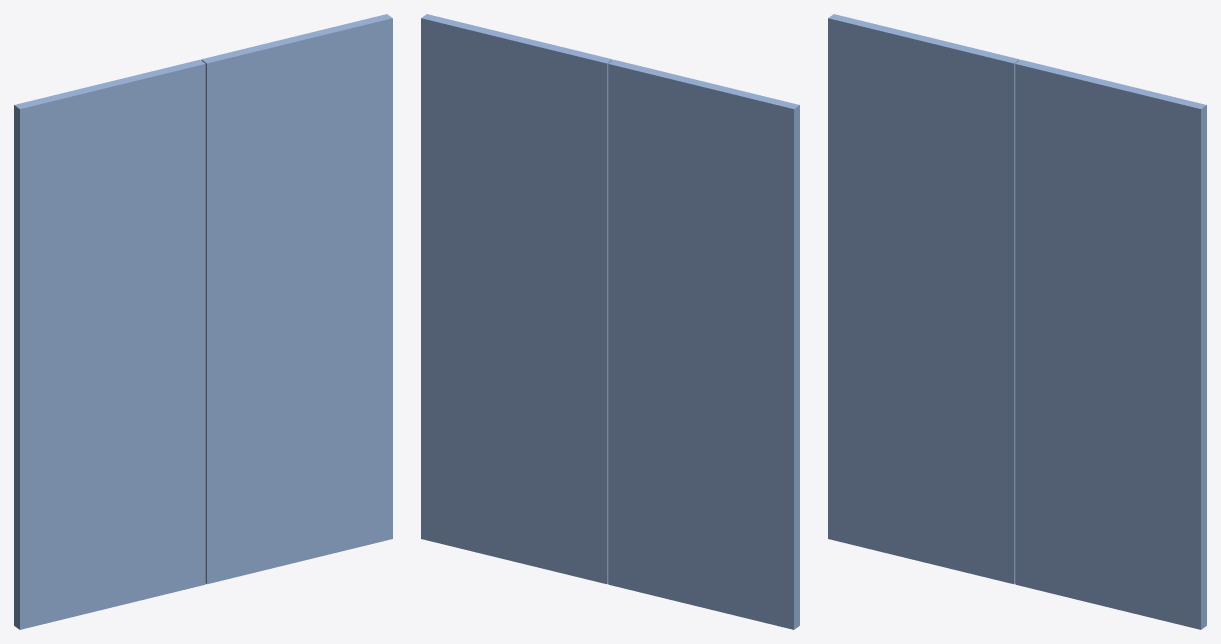
Rendered from elevator doors.glb.
The picture shows the model from 3 angles, left to right: view 1: azimuth 30°, elevation 25°; view 2: azimuth 150°, elevation 25°; view 3: azimuth 330°, elevation 25°; orthographic projection.
Visible parts, largest first — view 1: door right, door left; view 2: door right, door left; view 3: door left, door right.
Part boxes in pixels (x1,y1,x2,y2): door right: [14, 59, 205, 629]; door left: [201, 14, 392, 584]; door right: [608, 59, 799, 629]; door left: [421, 14, 612, 584]; door left: [1015, 59, 1206, 629]; door right: [828, 14, 1019, 584].
Bounding box in the file's own units: 0.5917 × 0.7896 × 0.0158.
